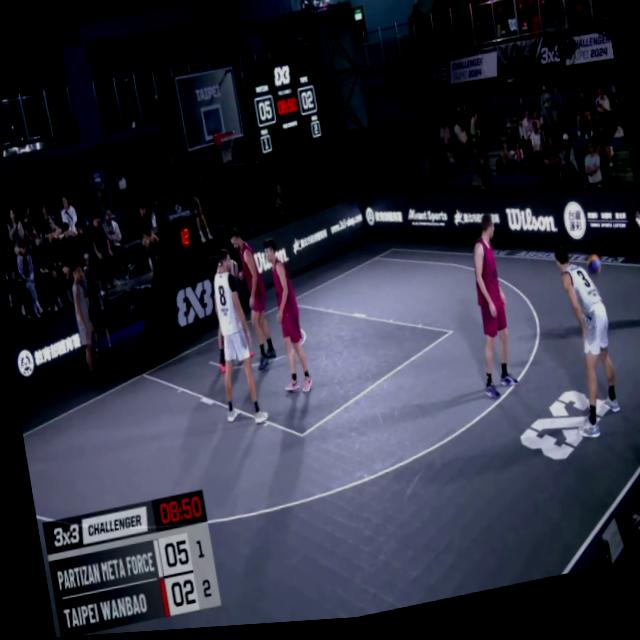ball: (584, 262, 602, 285)
hoop: (212, 131, 239, 168)
player: (544, 248, 623, 449), (198, 247, 265, 433), (457, 220, 521, 409), (260, 237, 312, 402), (230, 225, 277, 379), (202, 249, 254, 377)
